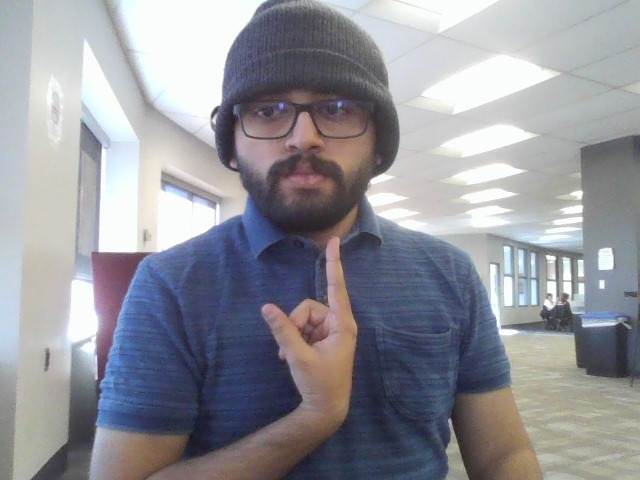one: (247, 230, 382, 431)
